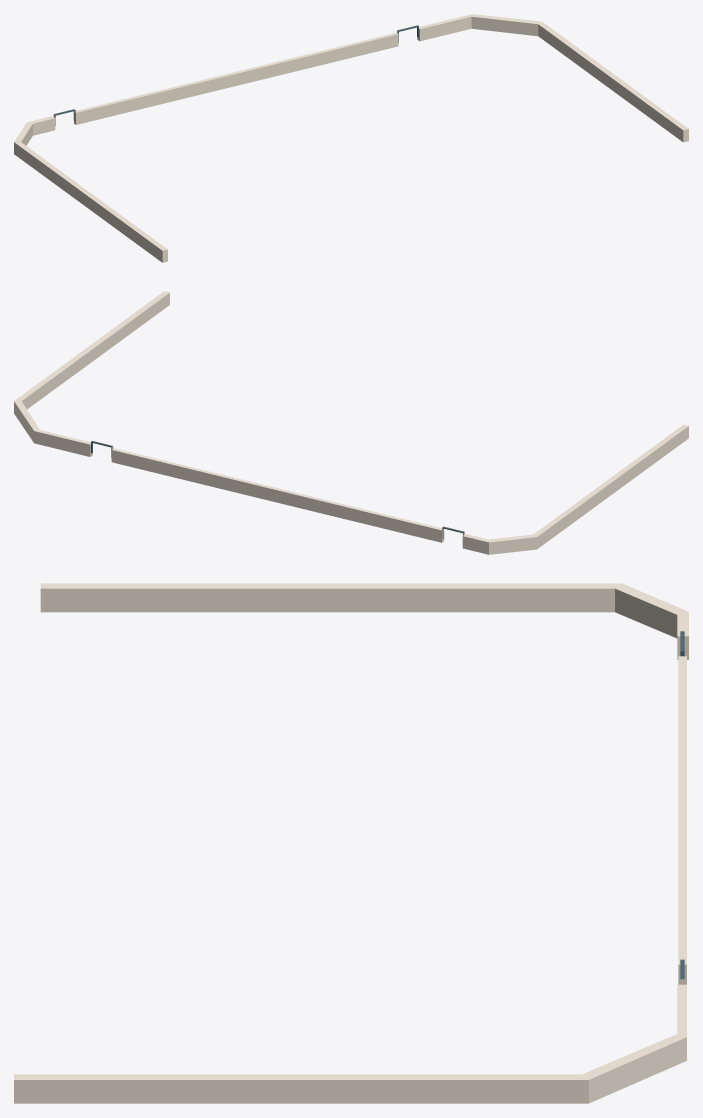
File: Fence.fbx
3 views of the same model, one above another, from view 1: azimuth 30°, elevation 25°; view 2: azimuth 150°, elevation 25°; view 3: azimuth 270°, elevation 25° (orthographic). The views are drawn at different scales.
Parts seen in each view (by area): view 1: Fence; view 2: Fence; view 3: Fence.
Boxes of the visible parts, box(x1,y1,x2,y2) form: Fence: box(14, 14, 688, 262); Fence: box(14, 291, 688, 554); Fence: box(14, 583, 688, 1103).
Size of the model in its own units: 1909 by 51.66 by 1097.
